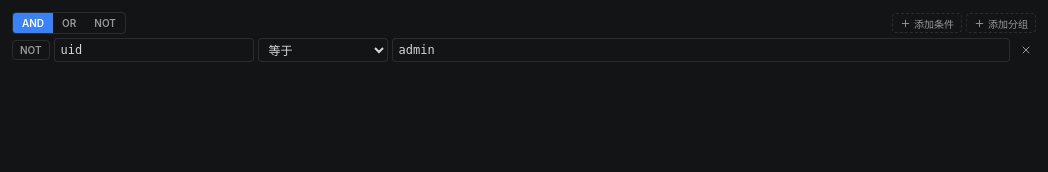
FilterGroup › adds and removes clause rows
Click the button "添加条件": [927, 23] box [892,13,962,33]
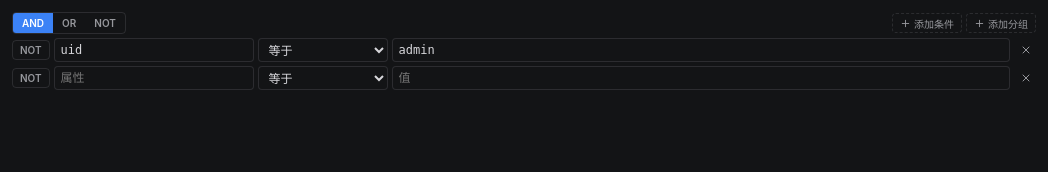
Click the 1st button named "删除条件": [1025, 50] box [1014,39,1036,61]
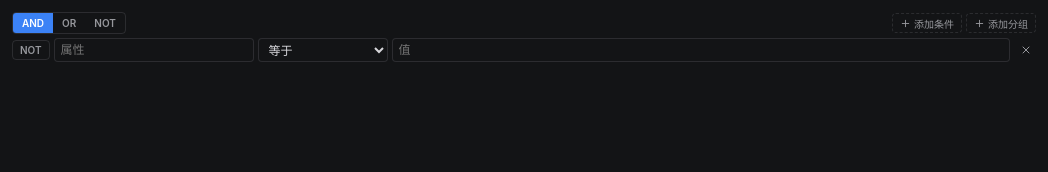
Click the button named "删除条件": [1025, 50] box [1014,39,1036,61]
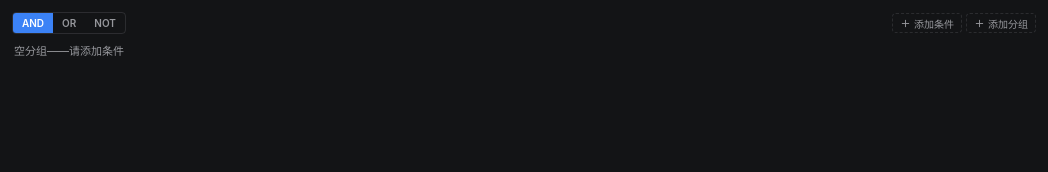
Result: the text "空分组——请添加条件" is shown at [14,44,124,58]
